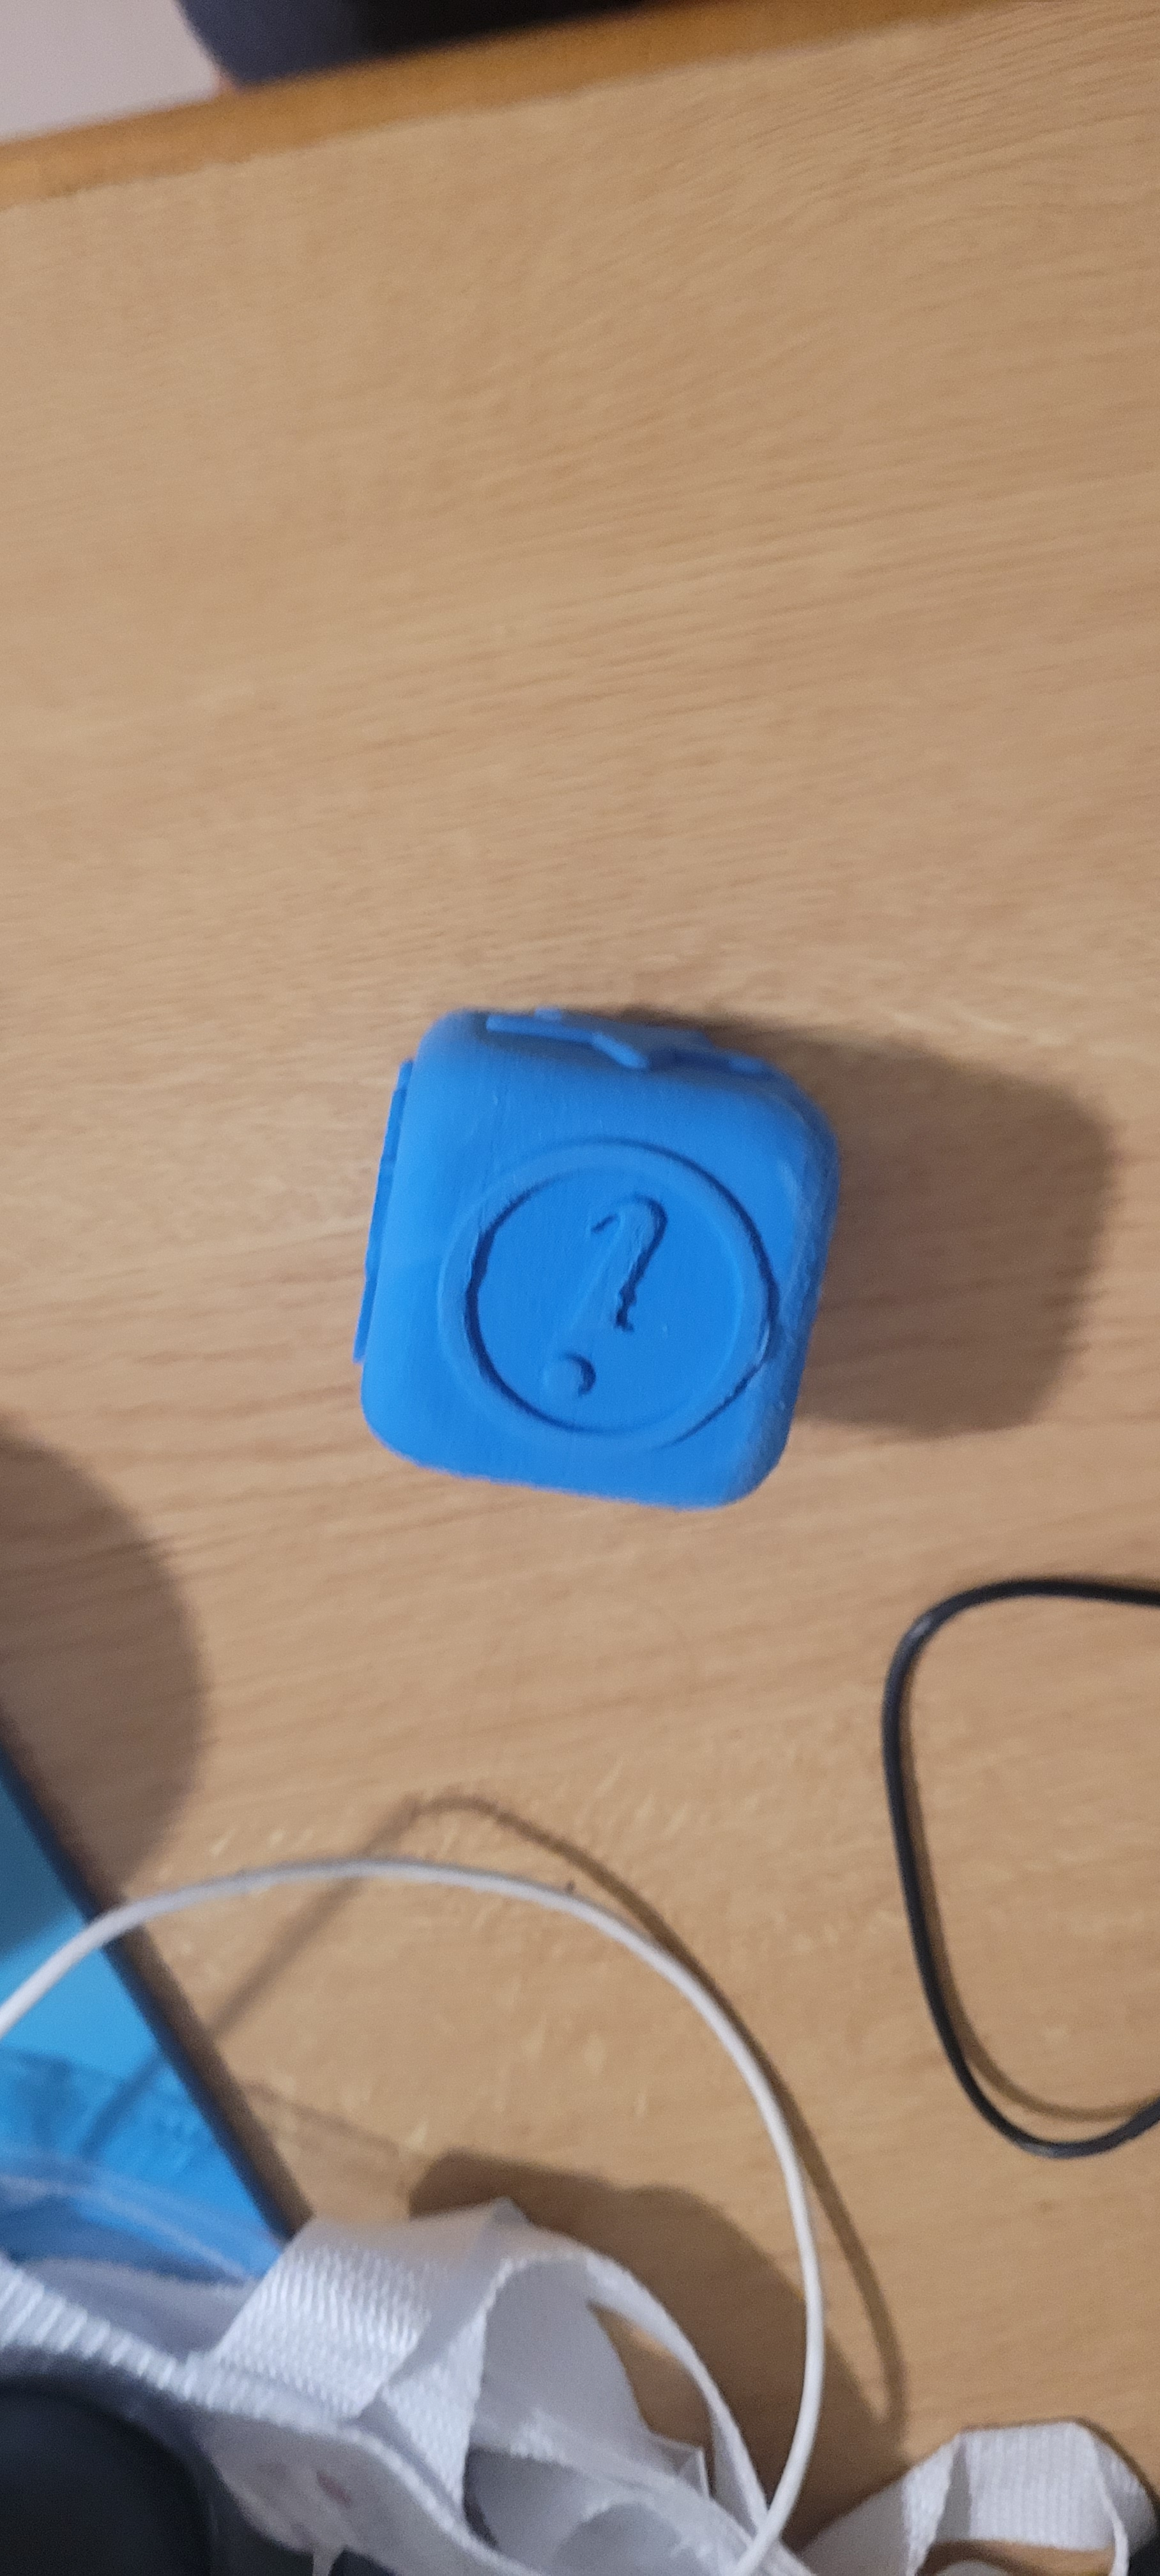Info: (434, 1092, 792, 1474)
